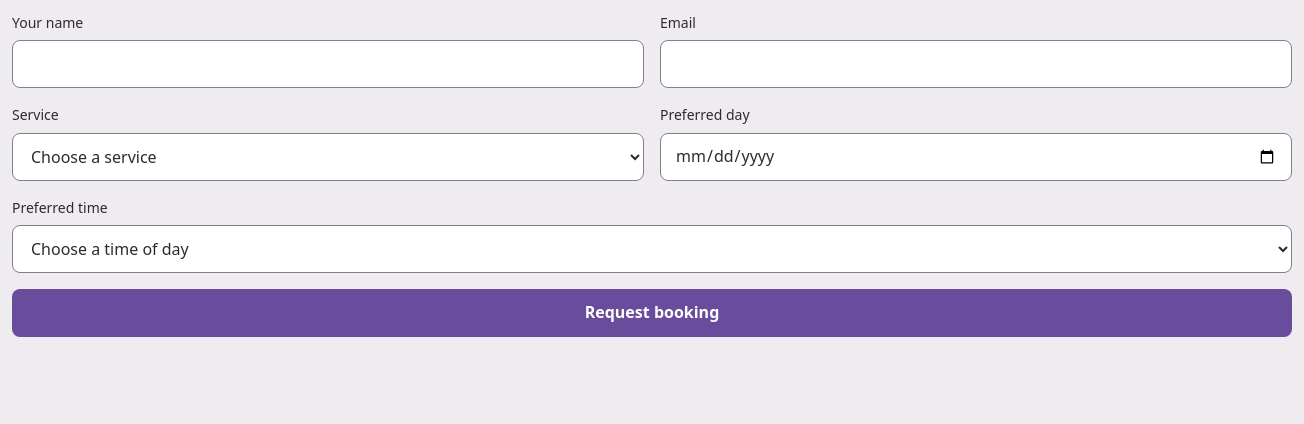
it: BookingForm › sends the form and shows the confirmation
Type "Alex Rivera" into the field labelled "Your name" at (328, 64), box [12,40,644,88]
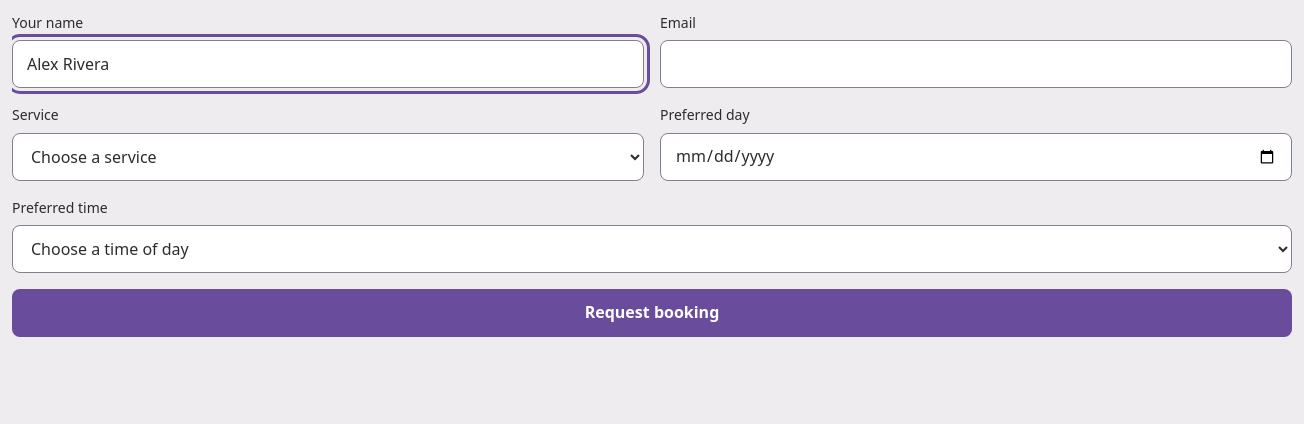
Type "alex@example.com" into the field labelled "Email" at (976, 64), box [660,40,1292,88]
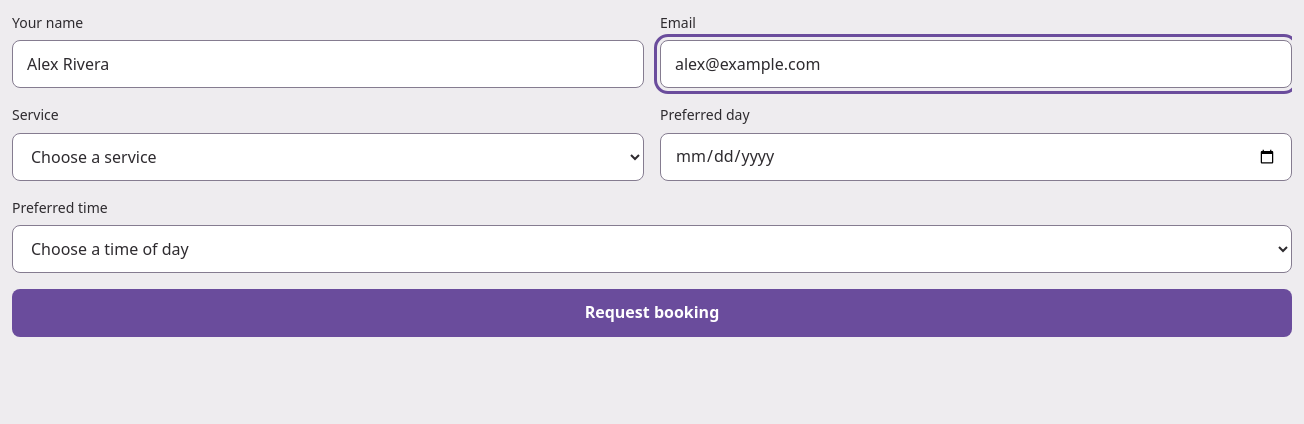
Select "Cut and finish ($55)" in the dropdown labelled "Service" at (328, 157), box [12,133,644,181]
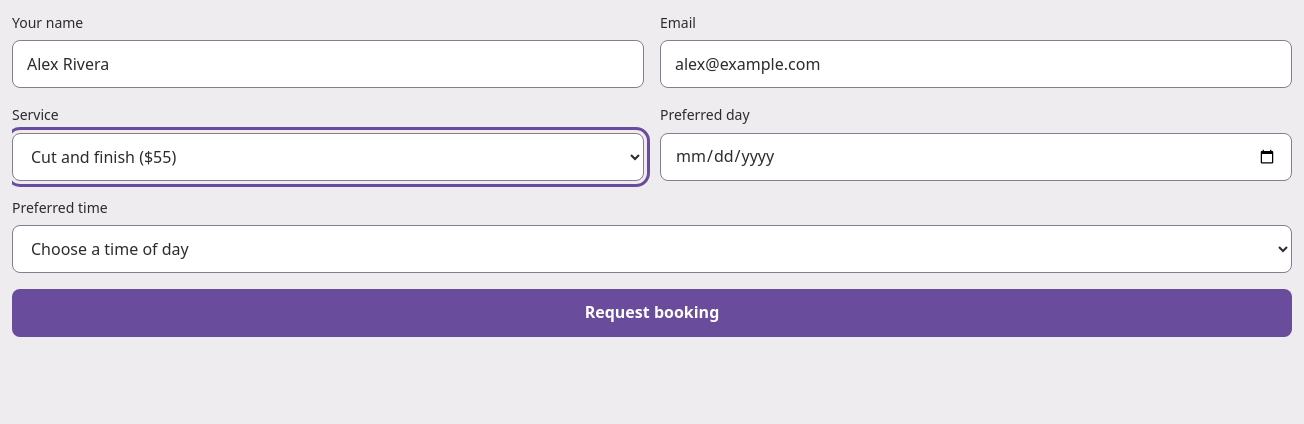
Type "2026-12-02" into the date field labelled "Preferred day" at (976, 157), box [660,133,1292,181]
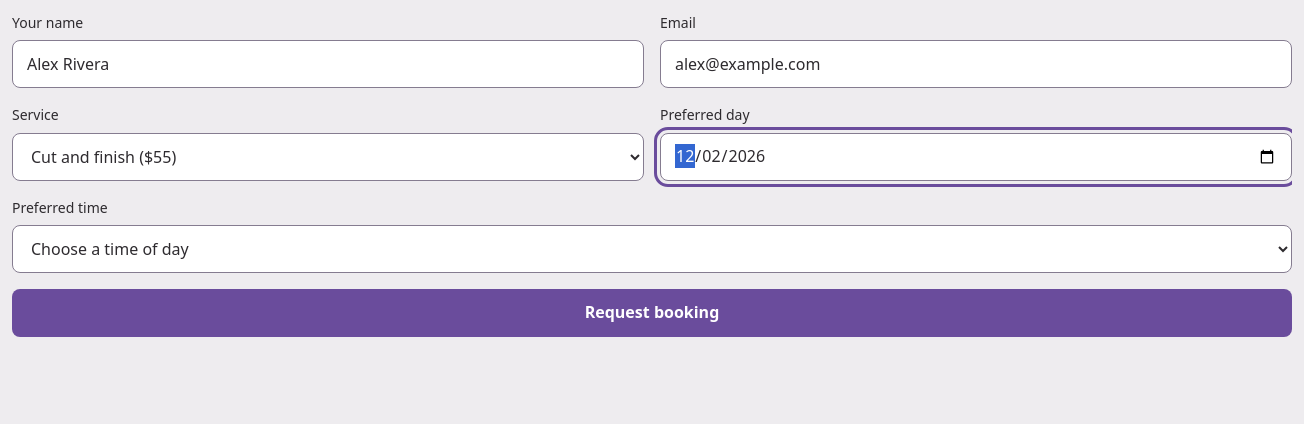
Select "Morning (9:00 to 12:00)" in the dropdown labelled "Preferred time" at (652, 249), box [12,225,1292,273]
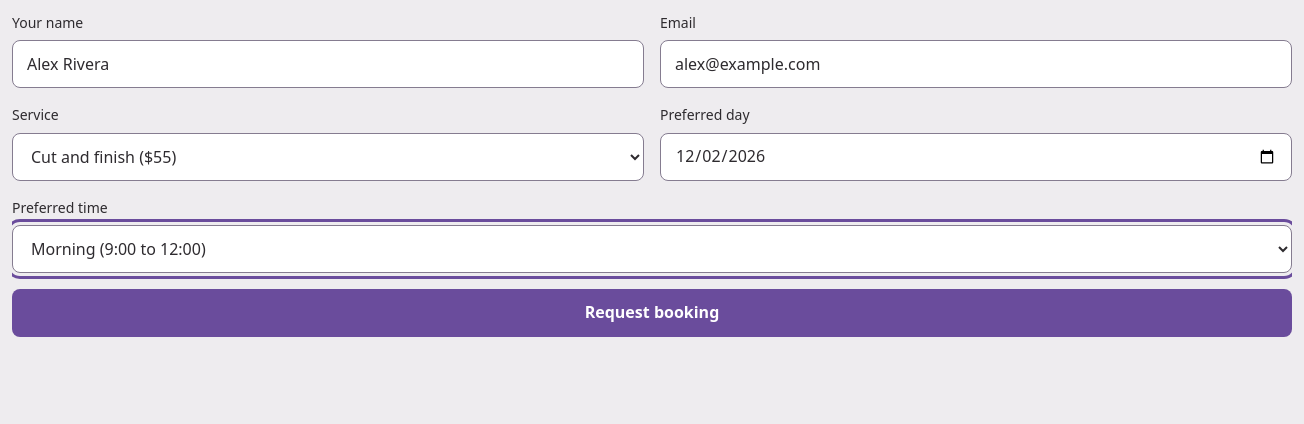
Click the button "Request booking" at (652, 313), box [12,289,1292,337]
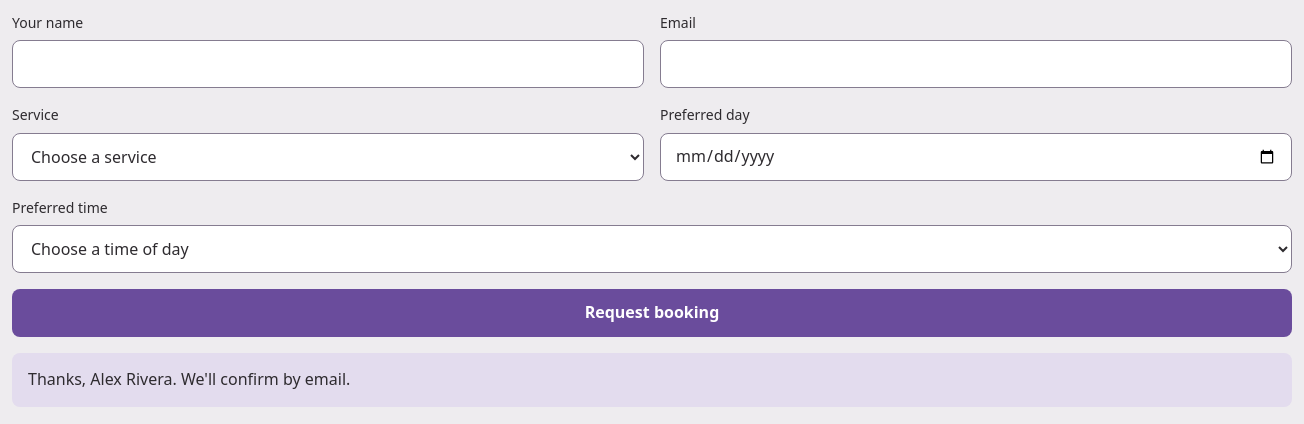
Now the message shows "Thanks, Alex Rivera.", box [28,368,350,390]
